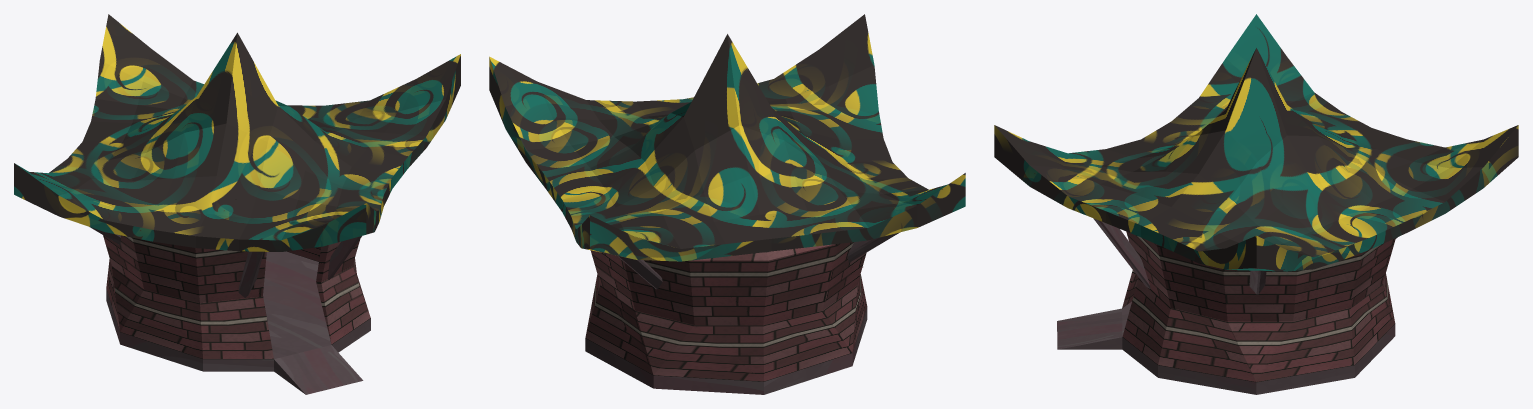
Rendered from House2.fbx.
3 renders of one model, left to right at view 1: azimuth 30°, elevation 25°; view 2: azimuth 150°, elevation 25°; view 3: azimuth 270°, elevation 25°, orthographic. The views are drawn at different scales.
Visible parts, largest first — view 1: house2; view 2: house2; view 3: house2.
Boxes of the visible parts, x1,y1,x2,y2 form: house2: [14, 14, 460, 394]; house2: [489, 14, 965, 394]; house2: [994, 14, 1518, 394].
Bounding box in the file's own units: 832 × 504 × 832.
